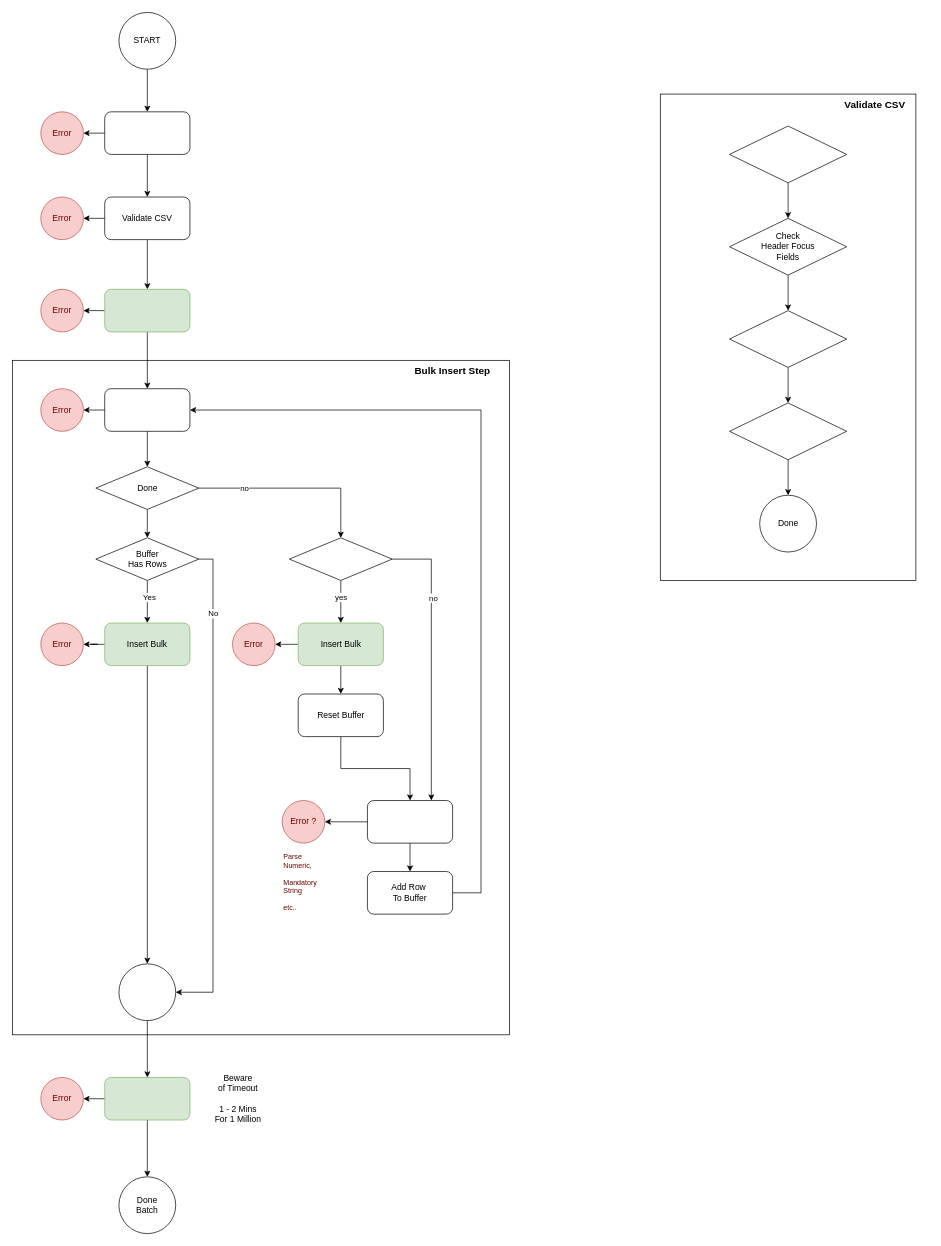
The diagram is 941 pixels wide and 1246 high, and some of its shapes have lost their labels. The centre of each missing label's shape, as x and y in pixels:
"Check Header Count" belongs at (x=788, y=154).
"Check Rows Count not 0" belongs at (x=788, y=431).
"Check Tail" belongs at (x=788, y=338).
"Done Insert" belongs at (x=147, y=992).
"Is Buffer Full" belongs at (x=340, y=558).
"Open CSV File" belongs at (x=147, y=132).
"Parse And Validate Row" belongs at (x=410, y=821).
"Read Line" belongs at (x=147, y=409).
"Refresh Meterial View" belongs at (x=147, y=1098).
"Truncate Table" belongs at (x=147, y=310).
